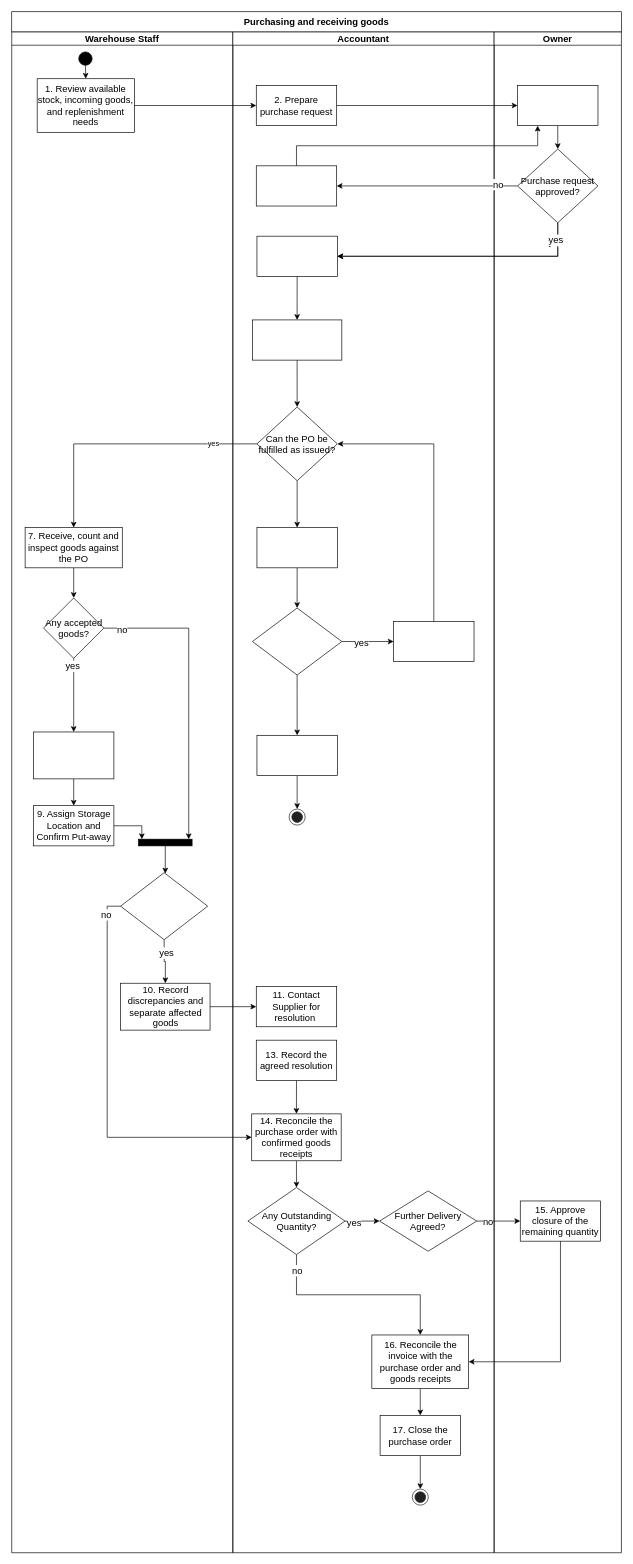
Some shapes in this 633 by 1564 pixel diagram are drawn without their labels. The shapes that lost their labels are listed below. From the top down, each one's centre as x and y in pixels, then its label:
point (557, 105): 3. Review purchase request
point (296, 185): 4. Revise purchase request
point (296, 256): 5. Create and issue purchase order
point (297, 339): 6.Record PO fulfilment response
point (296, 547): 7. Review affected PO lines and proposed changes
point (297, 641): Can any part of the PO be fulfilled?
point (433, 641): 8. Issue revised PO
point (73, 755): 8. Create and Confirm Goods Receipt for Accepted Goods
point (296, 755): Cancel PO
point (164, 906): Any Receipt Discrepancies?
